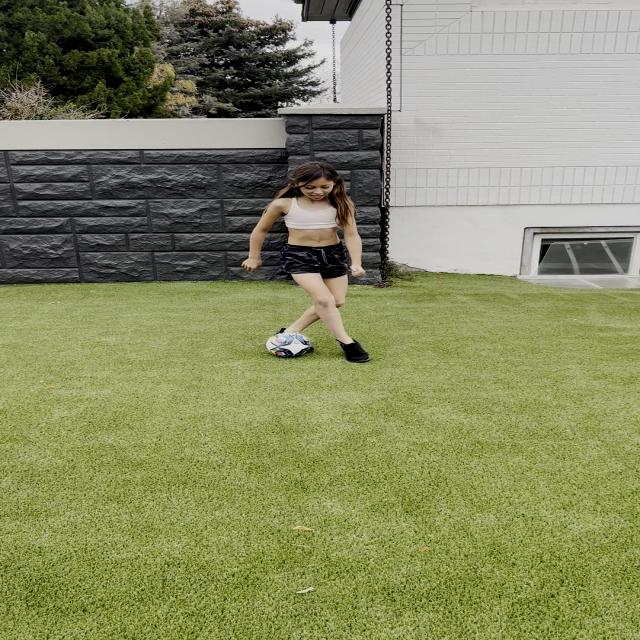Soccer Ball: (265, 331, 312, 358)
